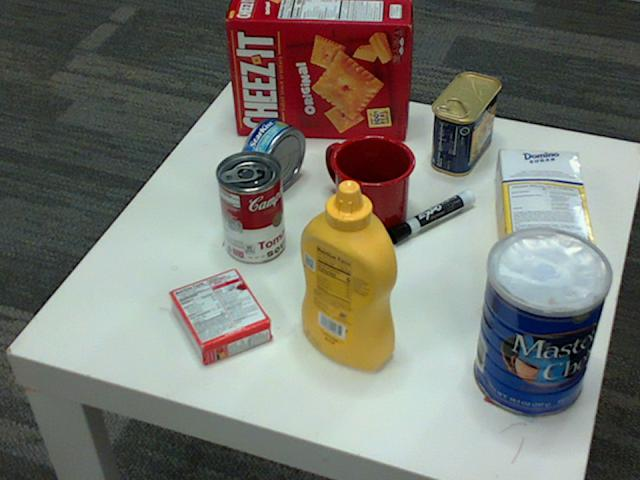cracker_box: (228, 0, 412, 139)
gelatin_box: (165, 267, 268, 365)
large_marker: (386, 193, 476, 243)
master_chef_can: (475, 229, 614, 418)
mug: (325, 133, 415, 236)
mustard_bottle: (300, 181, 397, 370)
potted_meat_can: (430, 74, 498, 176)
sugar_box: (495, 149, 596, 282)
tomato_soup_can: (216, 151, 285, 264)
tuna_fish_can: (238, 117, 305, 195)
